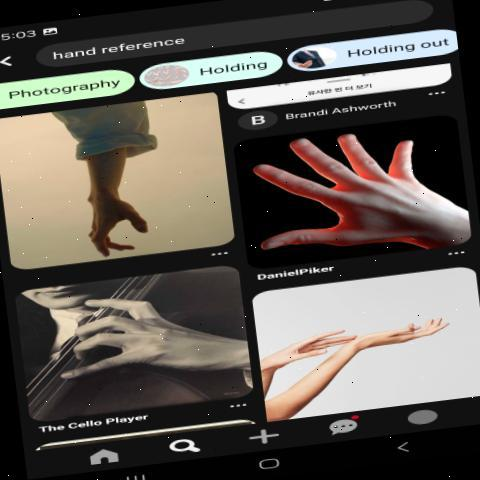Hands: (248, 138, 456, 255), (44, 284, 252, 384), (40, 155, 186, 255), (264, 318, 356, 372), (342, 313, 462, 352)
